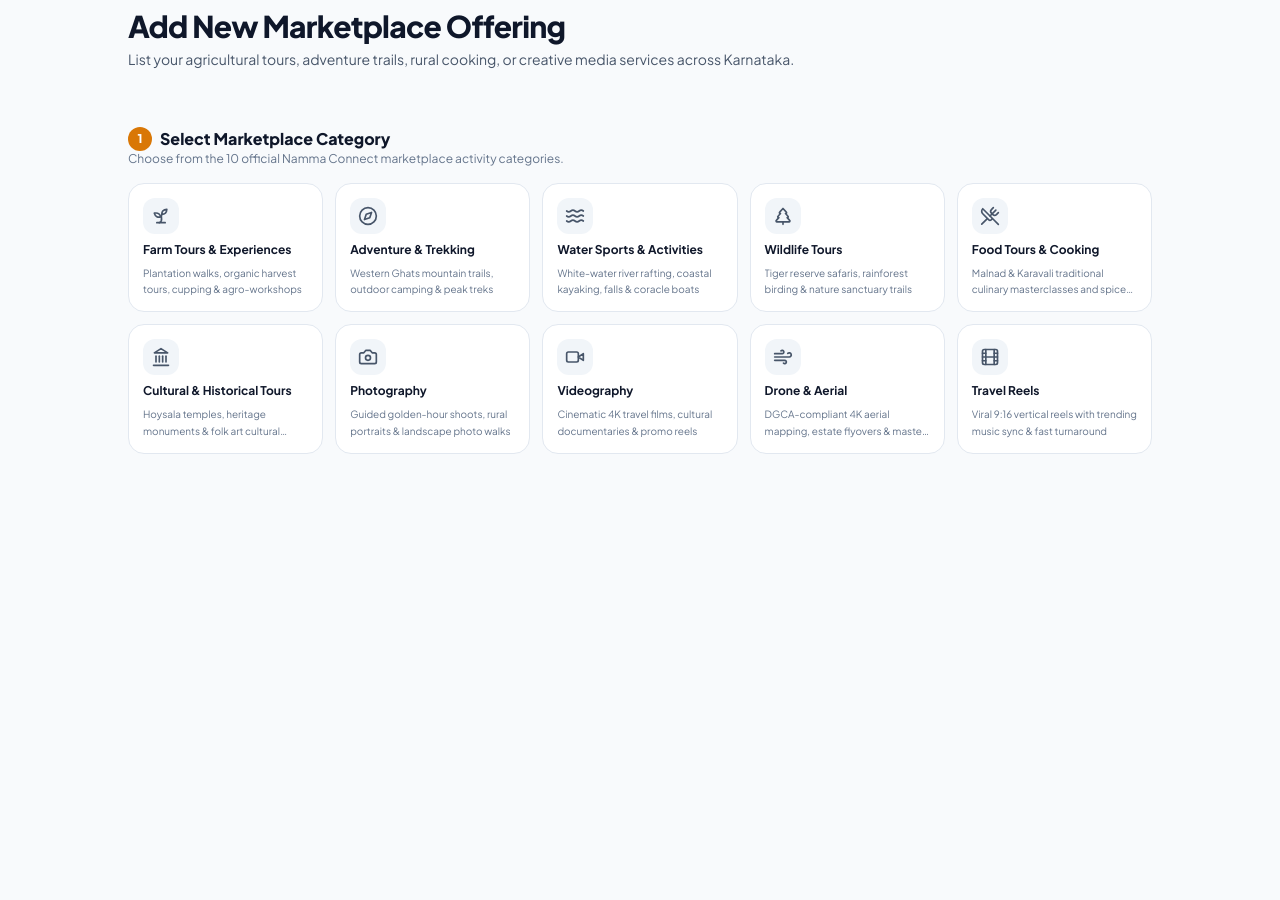
Test: Provider Availability Component & Logic Suite › Integration: Add Service Form (PartnerServiceNewPage) › displays Availability section after choosing a provider type
# Select Farmer category
Click the heading "Farm Tours & Experiences".
click(217, 249)  # box [143,242,292,257]
(page scrolled)
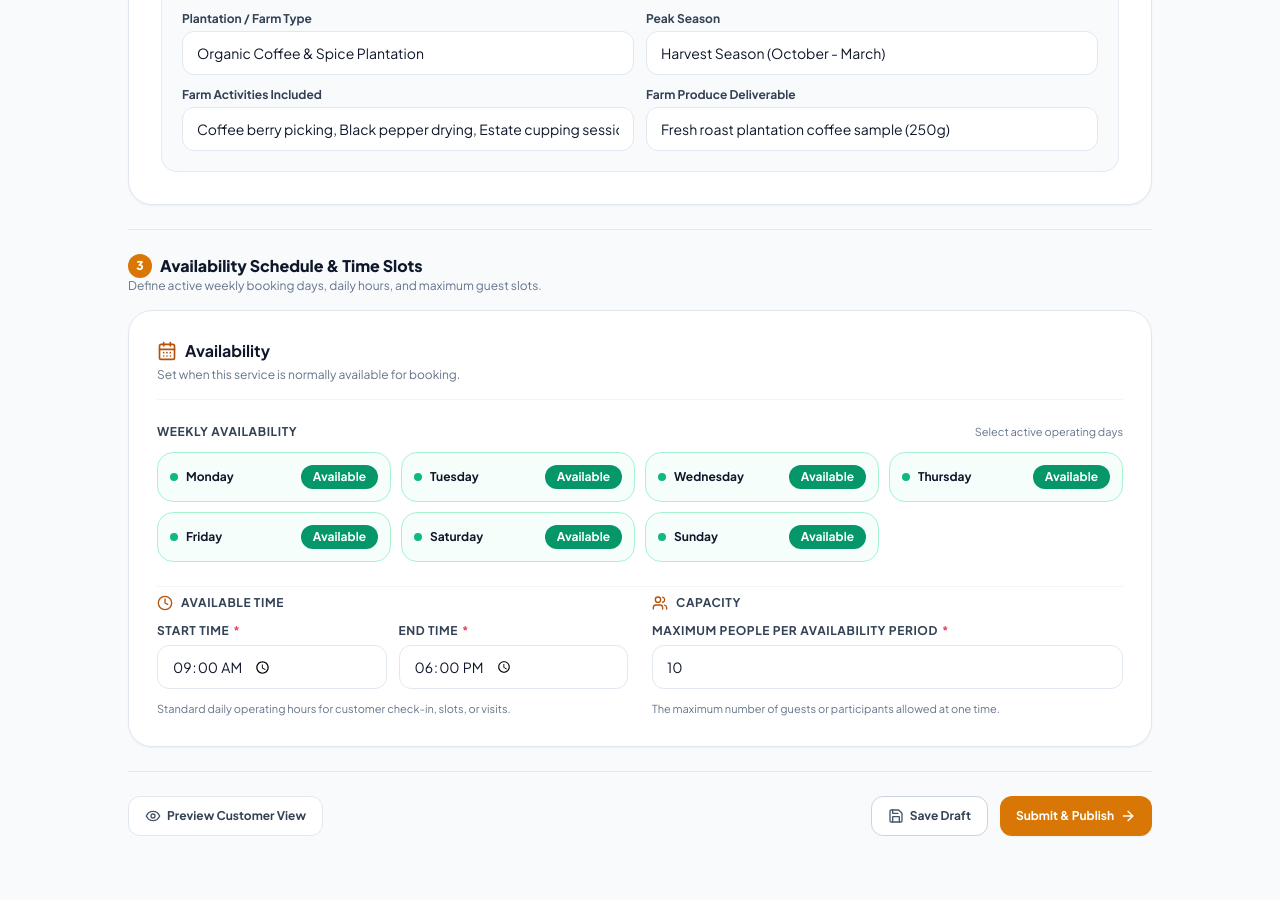
Now the heading "Availability" is shown, box [185,339,270,363]
Now the text "Set when this service is normally available for booking." is shown, box [157,367,460,382]
Now the text "Weekly Availability" is shown, box [157,424,297,440]
